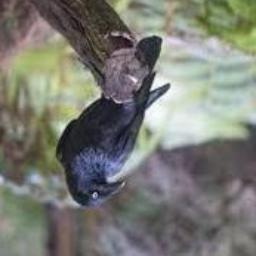Crow: (55, 72, 170, 207)
